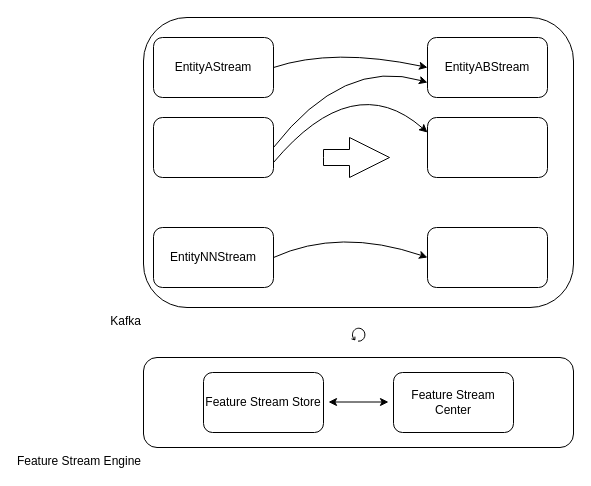
The diagram is 591 pixels wide and 486 high, and some of its shapes have lost their labels. The centre of each missing label's shape, as x and y in pixels:
EntityBCDStream: the point at 487,147
EntityBStream: the point at 213,147
EntityNMStream: the point at 487,257
